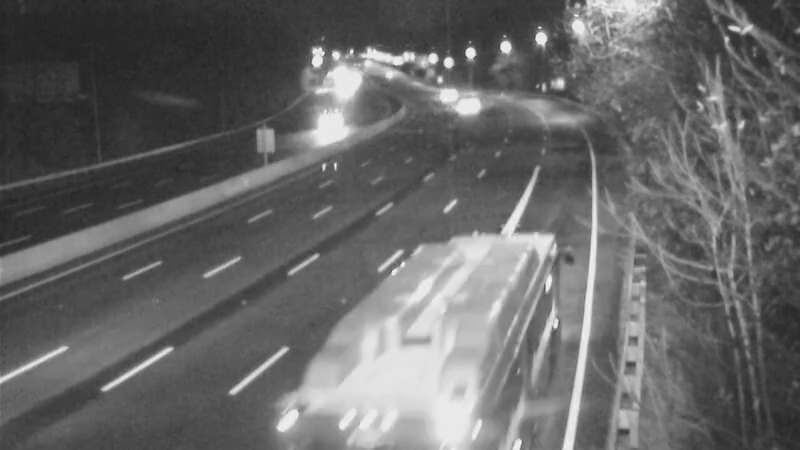vehicle: (402, 248, 512, 358), (416, 68, 466, 118), (438, 82, 488, 132), (298, 103, 348, 153)
